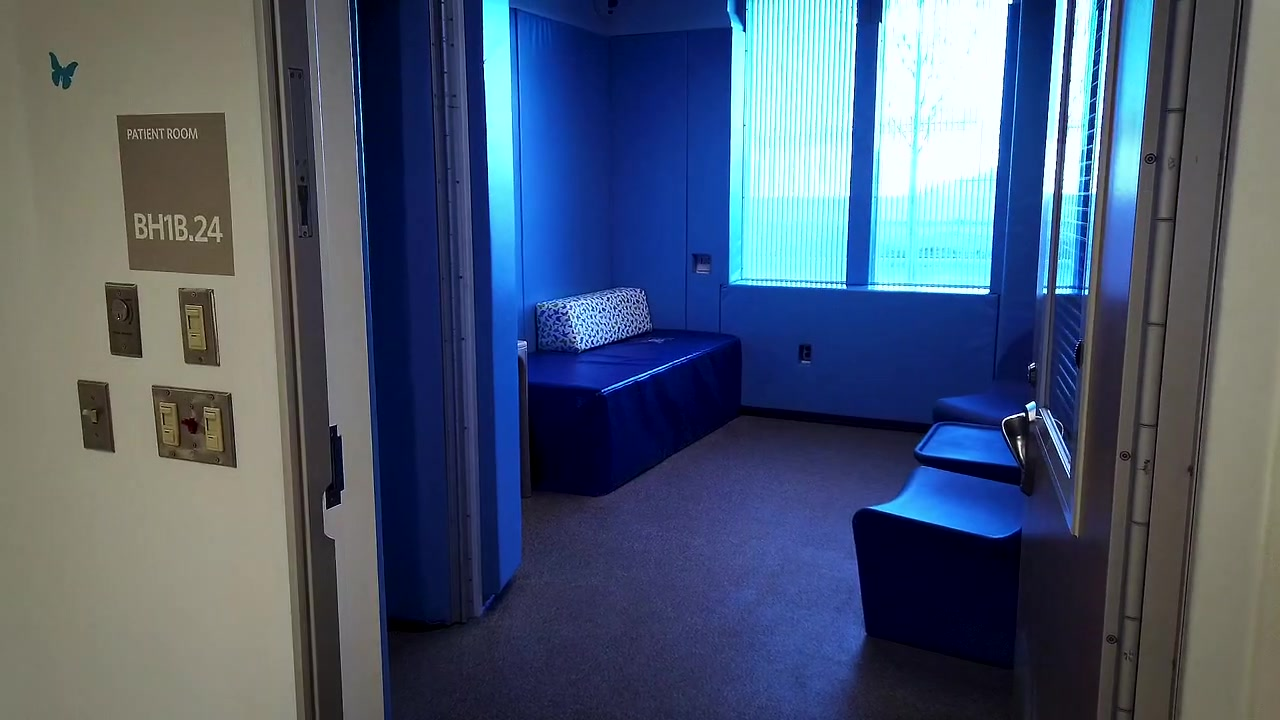door_handle: (1000, 400, 1037, 498)
light_switch: (74, 378, 119, 456)
sofa: (526, 286, 743, 497), (851, 465, 1026, 664), (932, 331, 1033, 427)
table: (913, 421, 1022, 487)
